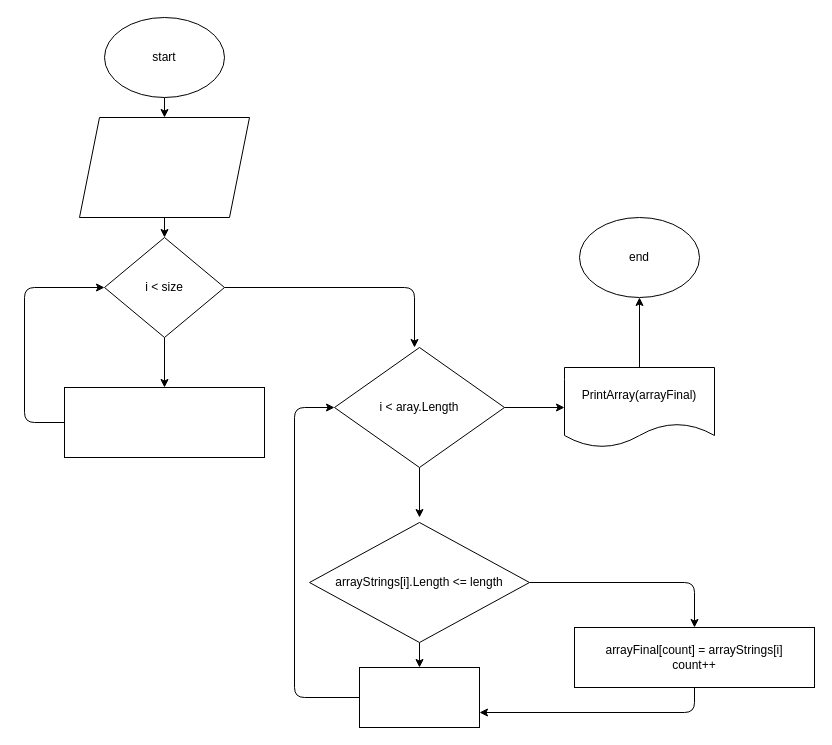
This 832x745 diagram has some shape labels left out. The box of each missing label's shape, as (x1, y1, x2, y2) in pixels:
i++: (358, 666, 480, 728)
size arrayStrings[size] arrayFinal[size] length = 3 count = 0 symbol: (78, 116, 250, 218)
symbol = Console.Read.Line() arrayStrings[i] = symbol i++: (64, 386, 264, 458)
